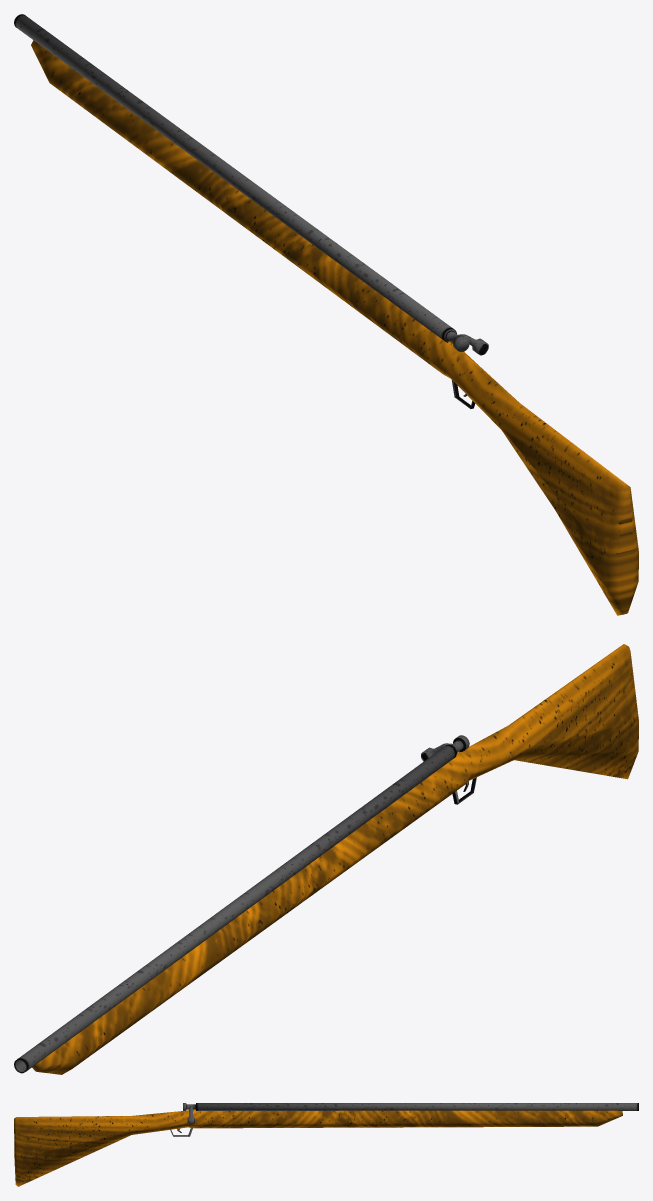
File: old_rifle.obj
3 renders of one model, top to bottom at view 1: azimuth 30°, elevation 25°; view 2: azimuth 150°, elevation 25°; view 3: azimuth 270°, elevation 25°, orthographic. The views are drawn at different scales.
Visible parts, largest first — view 1: Cylinder; view 2: Cylinder; view 3: Cylinder.
Part boxes in pixels (box(x1,y1,x2,y2)): Cylinder: box(14, 14, 638, 615); Cylinder: box(14, 644, 638, 1074); Cylinder: box(14, 1103, 638, 1186).
Bounding box in the file's own units: 0.4433 × 1.41 × 9.73.
